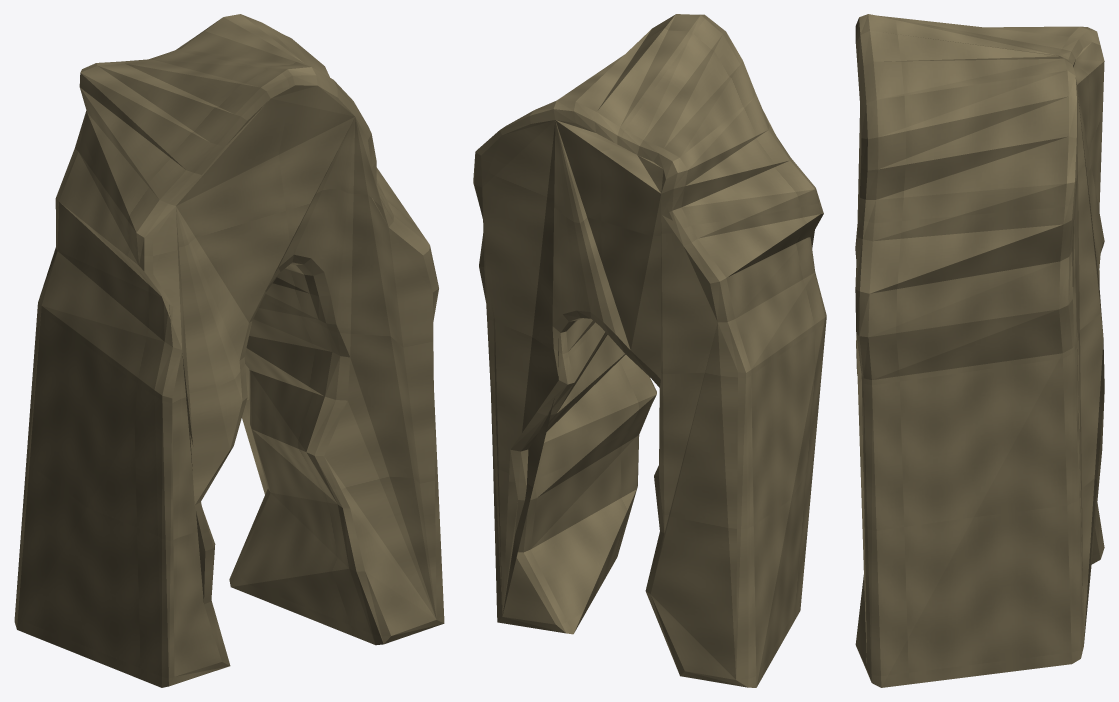
File: hollow_gum_trunk_swamp_and_mangrove_22609.glb
3 views of the same model, side by side, from view 1: azimuth 30°, elevation 25°; view 2: azimuth 150°, elevation 25°; view 3: azimuth 270°, elevation 25° (orthographic). The views are drawn at different scales.
Visible parts, largest first — view 1: hollow-gum; view 2: hollow-gum; view 3: hollow-gum.
Part boxes in pixels (x1,y1,x2,y2): hollow-gum: (14, 14, 444, 687); hollow-gum: (473, 14, 826, 687); hollow-gum: (855, 14, 1104, 687).
Size of the model in its own units: 2.31 by 4.03 by 1.53.
Materials: 1 (1 with a texture image).
